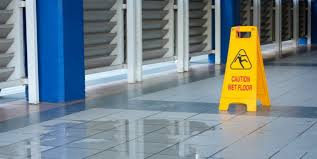Wet-floor: (31, 122, 214, 159)
